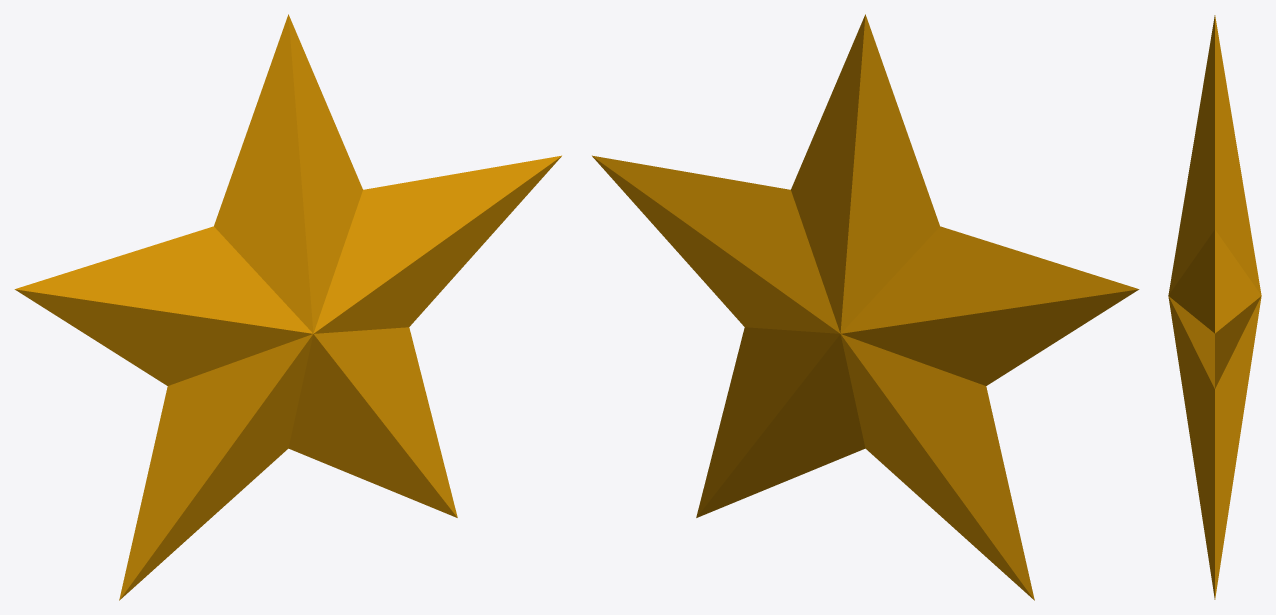
The model's file is SM_StarPostStar.fbx.
The picture shows the model from 3 angles, left to right: view 1: azimuth 30°, elevation 25°; view 2: azimuth 150°, elevation 25°; view 3: azimuth 270°, elevation 25°; orthographic projection. The views are drawn at different scales.
Visible parts, largest first — view 1: Circle; view 2: Circle; view 3: Circle.
Boxes of the visible parts, x1,y1,x2,y2 form: Circle: (14, 14, 561, 600); Circle: (592, 14, 1139, 600); Circle: (1168, 15, 1261, 599).
Size of the model in its own units: 285 by 271 by 45.
